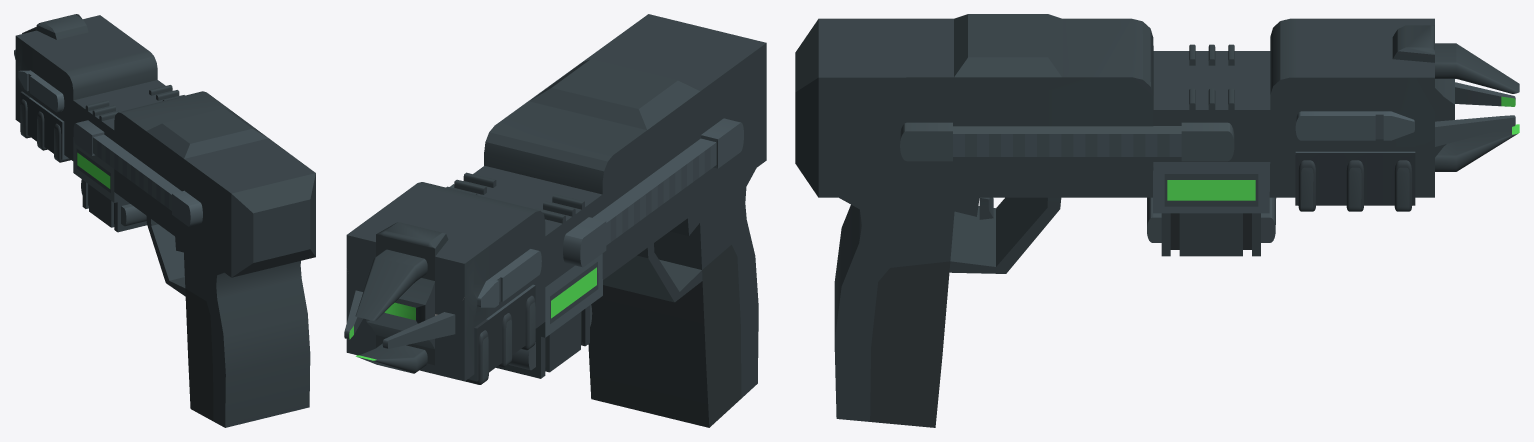
Rendered from Pistola plasma.fbx.
The picture shows the model from 3 angles, left to right: view 1: azimuth 30°, elevation 25°; view 2: azimuth 150°, elevation 25°; view 3: azimuth 270°, elevation 25°; orthographic projection. The views are drawn at different scales.
Visible parts, largest first — view 1: Cube; view 2: Cube; view 3: Cube.
Boxes of the visible parts, bbox=[...] form: Cube: bbox=[14, 14, 315, 427]; Cube: bbox=[344, 14, 766, 427]; Cube: bbox=[795, 14, 1519, 427].
Bounding box in the file's own units: 18.05 × 40.16 × 72.66.
1 material, 1 textured.
